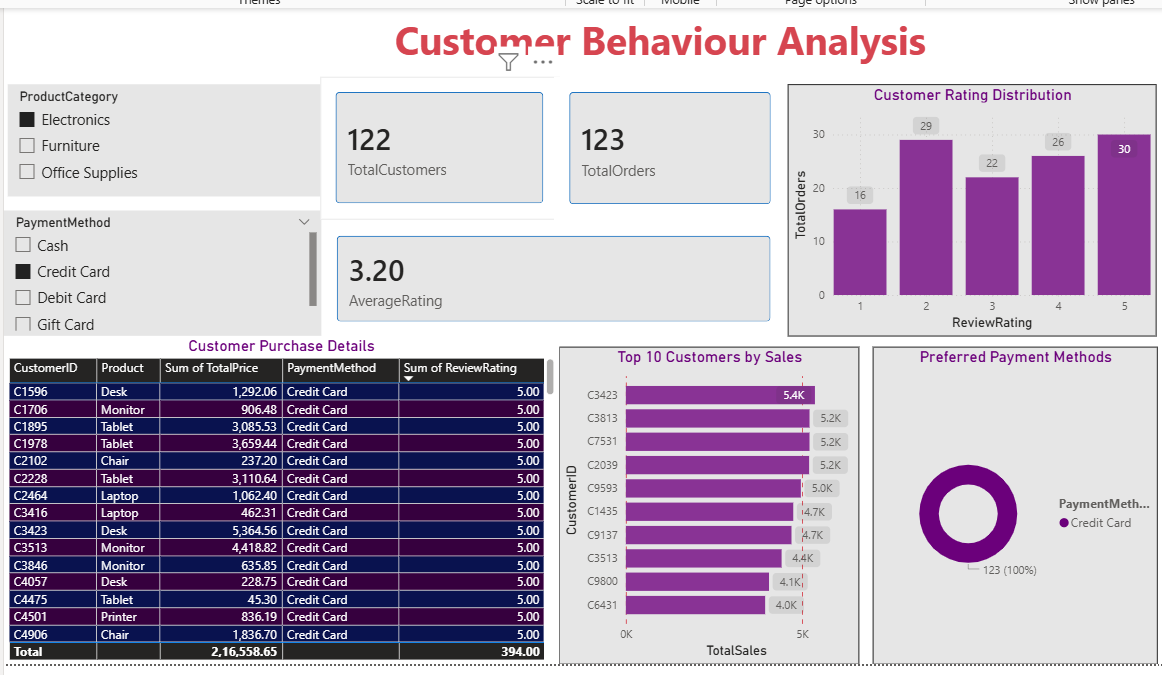

The dashboard page shown, as its layout file describes it:
{"tool":"powerbi","page":{"name":"Customer Behaviour Analysis","canvas":[1280,720],"ordinal":1},"visuals":[{"type":"columnChart","title":"Customer Rating Distribution","fields":{"Y":["DateTable.TotalOrders"],"Category":["Sheet1.ReviewRating"]},"box":[860.9,84.4,404.7,276.6],"z":0},{"type":"clusteredBarChart","title":"Top 10 Customers  by Sales","fields":{"Category":["DimCustomer.CustomerID"],"Y":["DateTable.TotalSales"]},"box":[609.4,371.9,329.7,348.4],"z":1000},{"type":"donutChart","title":"Preferred Payment Methods","fields":{"Category":["Sheet1.PaymentMethod"],"Y":["DateTable.TotalOrders"]},"box":[953.1,371.9,312.5,348.4],"z":2000},{"type":"tableEx","title":"Customer Purchase Details","fields":{"Values":["Sheet1.CustomerID","Sheet1.Product","Sum(Sheet1.TotalPrice)","Sheet1.PaymentMethod","Sum(Sheet1.ReviewRating)"]},"box":[0,360.9,609.4,359.4],"z":3000},{"type":"slicer","fields":{"Values":["Sheet1.ProductCategory"]},"box":[4.7,84.4,343.8,123.4],"z":4000},{"type":"slicer","fields":{"Values":["Sheet1.PaymentMethod"]},"box":[0,222.3,348.5,137.2],"z":5000},{"type":"textbox","box":[0,0,1280.3,75.5],"z":6000},{"type":"cardVisual","fields":{"Data":["DateTable.TotalCustomers"]},"box":[347.2,75.5,262.1,156.4],"z":7000},{"type":"cardVisual","fields":{"Data":["DateTable.TotalOrders"]},"box":[603.8,75.5,255.2,157.8],"z":8000},{"type":"cardVisual","fields":{"Data":["DateTable.AverageRating"]},"box":[348.4,232.8,510.9,128.1],"z":9000}]}

Visuals, with their boxes on the page's 1280x720 design canvas (x1, y1, x2, y2). These are canvas units, not pixel positions in the 1162x675 screenshot, which may show the page scaled, cropped or inside an application window:
"Customer Rating Distribution" columnChart: {"left": 861, "top": 84, "right": 1266, "bottom": 361}
"Top 10 Customers  by Sales" clusteredBarChart: {"left": 609, "top": 372, "right": 939, "bottom": 720}
"Preferred Payment Methods" donutChart: {"left": 953, "top": 372, "right": 1266, "bottom": 720}
"Customer Purchase Details" tableEx: {"left": 0, "top": 361, "right": 609, "bottom": 720}
slicer - Sheet1.ProductCategory: {"left": 5, "top": 84, "right": 348, "bottom": 208}
slicer - Sheet1.PaymentMethod: {"left": 0, "top": 222, "right": 348, "bottom": 360}
textbox: {"left": 0, "top": 0, "right": 1280, "bottom": 76}
cardVisual - DateTable.TotalCustomers: {"left": 347, "top": 76, "right": 609, "bottom": 232}
cardVisual - DateTable.TotalOrders: {"left": 604, "top": 76, "right": 859, "bottom": 233}
cardVisual - DateTable.AverageRating: {"left": 348, "top": 233, "right": 859, "bottom": 361}
